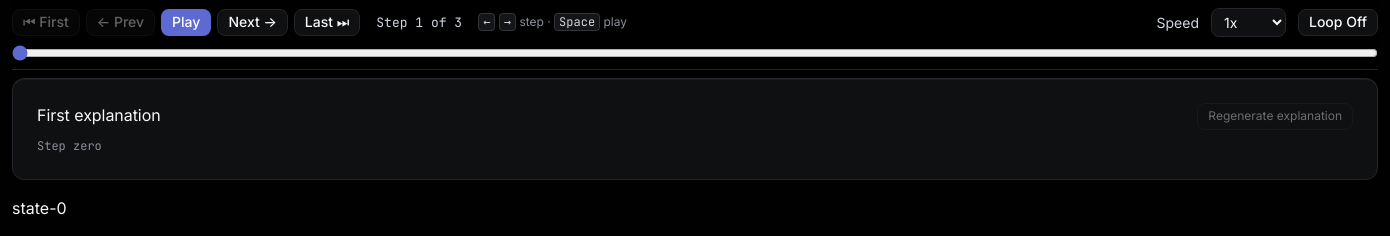
Test: StepPlayer › advances to the next step and shows the fallback explanation when null
What coordinates should you click on to do the following:
click the button "Next →"
I would click on:
 (253, 22)
Its box is [217,9,288,36].
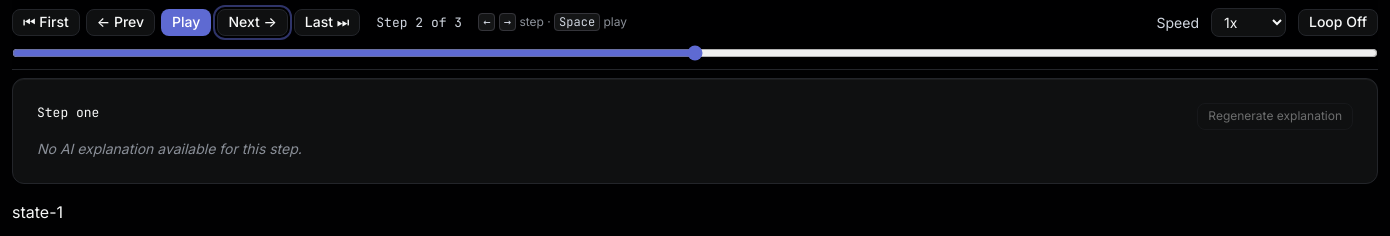
Result: the text "Step 2 of 3" is shown at [376,13,462,32]
Result: the text "Step one" is shown at [37,103,99,122]
Result: the text "No AI explanation available for this step." is shown at [37,140,302,157]
